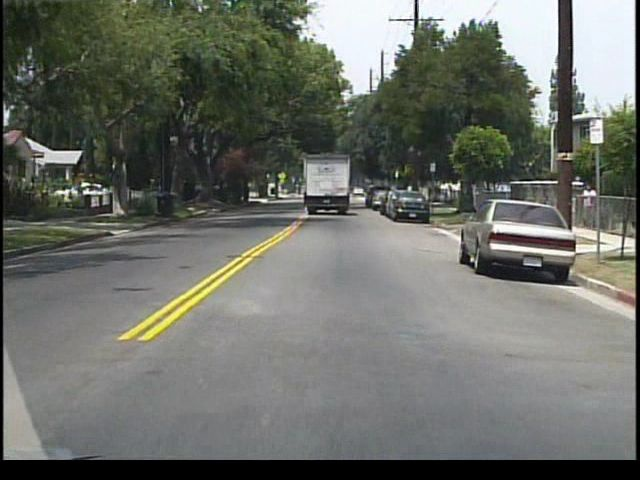person: (579, 180, 598, 229)
